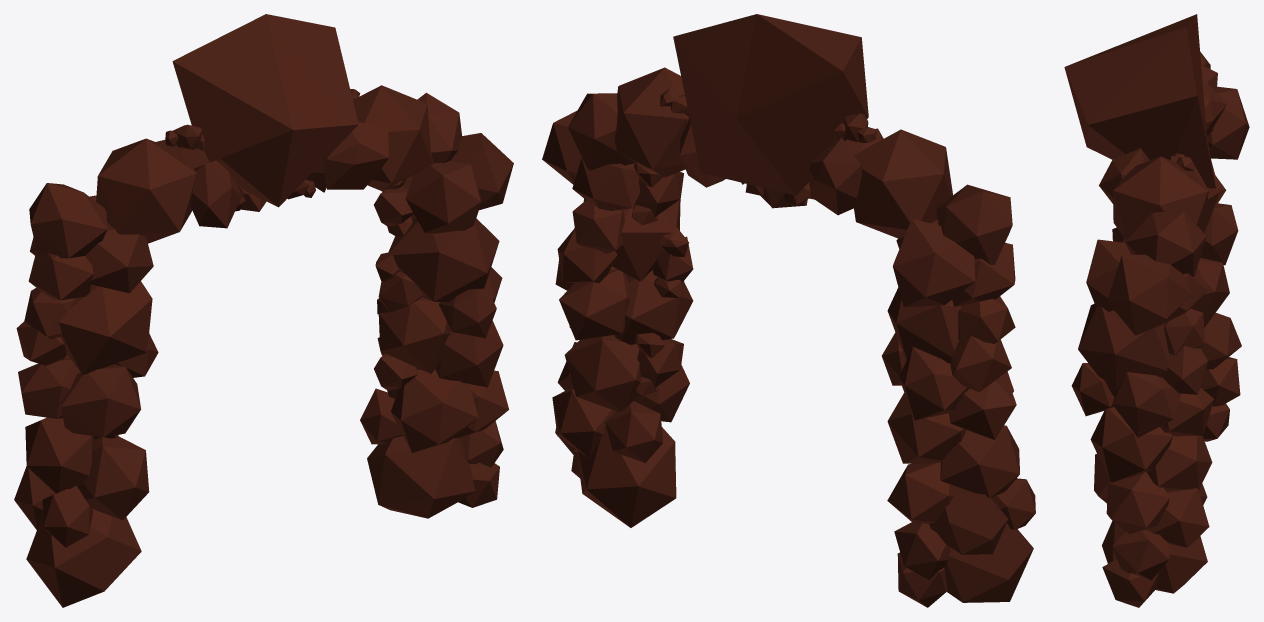
Rendered from Portal_Doorway_Sender.FBX.
The picture shows the model from 3 angles, left to right: view 1: azimuth 30°, elevation 25°; view 2: azimuth 150°, elevation 25°; view 3: azimuth 270°, elevation 25°; orthographic projection. The views are drawn at different scales.
Visible parts, largest first — view 1: Portal_Doorway_Sender; view 2: Portal_Doorway_Sender; view 3: Portal_Doorway_Sender.
Part boxes in pixels (left/top/right/bottom): Portal_Doorway_Sender: left=14, top=14, right=513, bottom=607; Portal_Doorway_Sender: left=542, top=14, right=1035, bottom=607; Portal_Doorway_Sender: left=1064, top=14, right=1249, bottom=607.
Size of the model in its own units: 6.88 by 7.42 by 2.48.
